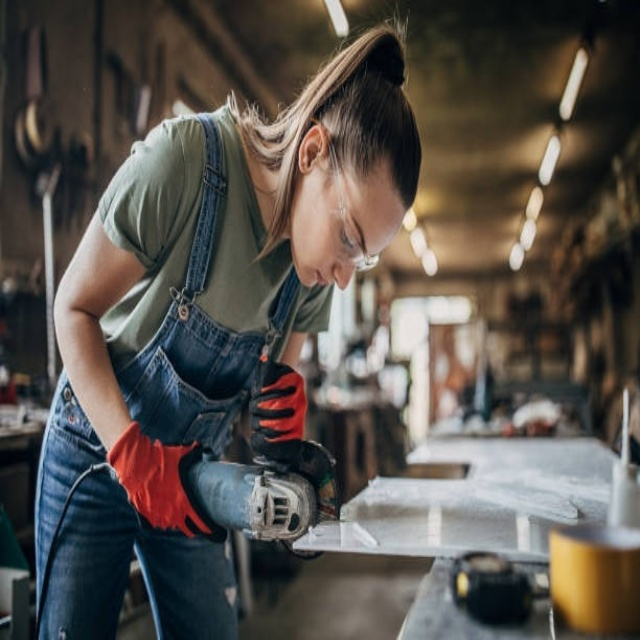Gafas: (329, 136, 385, 272)
Guantes: (105, 414, 232, 549), (251, 359, 311, 455)
Sin_mascara: (299, 254, 345, 300)
